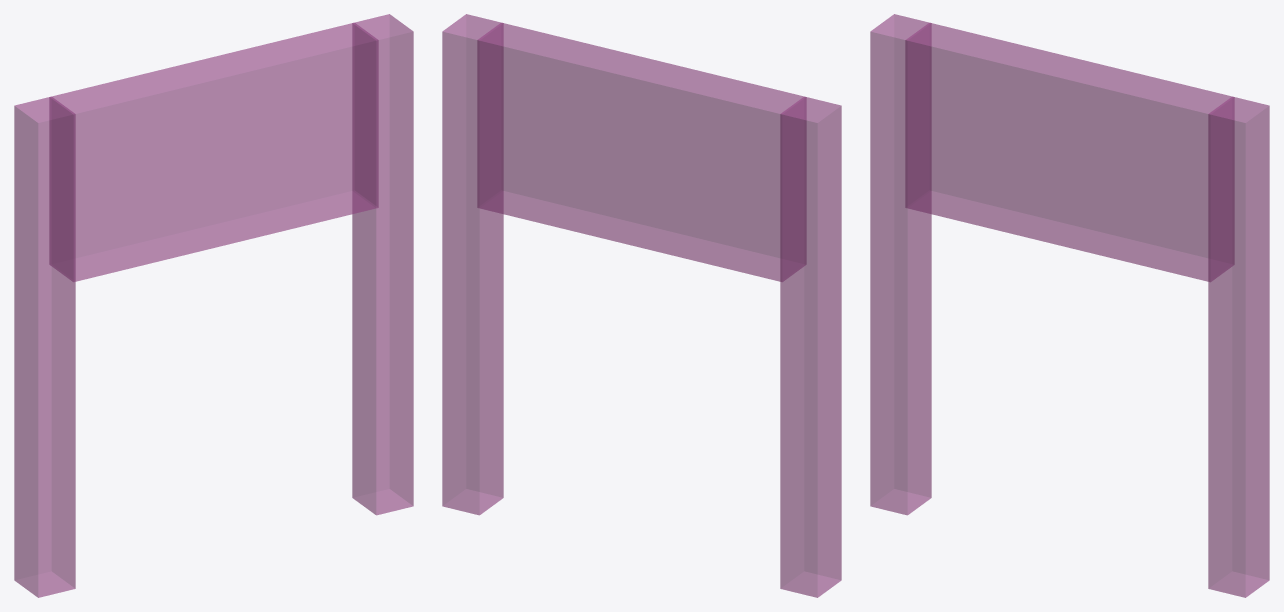
Rendered from SM_Bld_Base_Wall_Door_Double_01_Collision.fbx.
3 renders of one model, left to right at view 1: azimuth 30°, elevation 25°; view 2: azimuth 150°, elevation 25°; view 3: azimuth 330°, elevation 25°, orthographic.
Parts seen in each view (by area): view 1: SM_Bld_Base_Wall_Door_Double_01_Collision; view 2: SM_Bld_Base_Wall_Door_Double_01_Collision; view 3: SM_Bld_Base_Wall_Door_Double_01_Collision.
Part boxes in pixels (left/top/right/bottom): SM_Bld_Base_Wall_Door_Double_01_Collision: left=14, top=14, right=413, bottom=597; SM_Bld_Base_Wall_Door_Double_01_Collision: left=442, top=14, right=841, bottom=597; SM_Bld_Base_Wall_Door_Double_01_Collision: left=870, top=14, right=1269, bottom=597.
Bounding box in the file's own units: 253 × 306 × 28.02.
